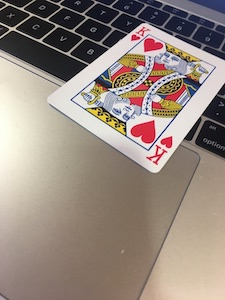KingOfHearts: (46, 22, 224, 174)
